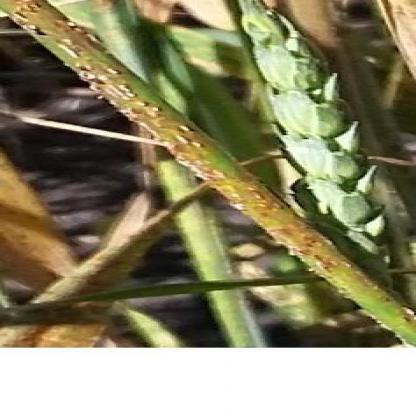wheat Stem Rust: (78, 66, 134, 90), (219, 174, 254, 201), (162, 117, 198, 142), (8, 0, 46, 18), (59, 24, 88, 47), (274, 232, 320, 246), (309, 254, 348, 269), (131, 94, 162, 111)
